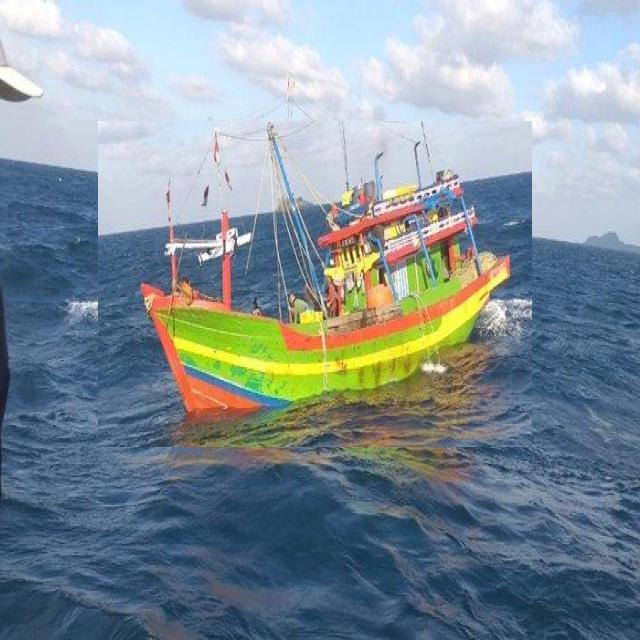Fishing Boat: (98, 121, 532, 448)
